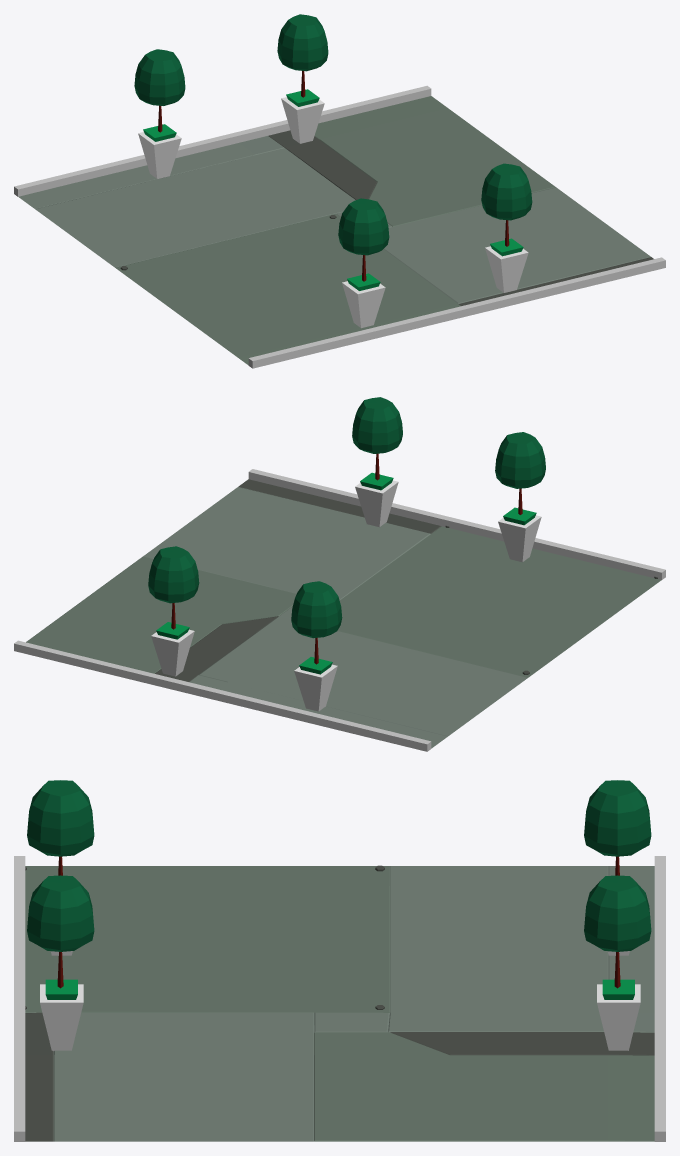
3 renders of one model, top to bottom at view 1: azimuth 30°, elevation 25°; view 2: azimuth 150°, elevation 25°; view 3: azimuth 270°, elevation 25°, orthographic. The views are drawn at different scales.
Visible parts, largest first — view 1: Scifi_Panel_04_Plaza014_group4.020_Scifi_Panel_04_Plaza014_group, Cube.921_Cube.1046, Cube.922_Cube.1047, base_singlePot03.017_base_singlePot03.019, base_singlePot03.016_base_singlePot03.018, base_singlePot03.014_base_singlePot03.016, base_singlePot03.015_base_singlePot03.017; view 2: Scifi_Panel_04_Plaza014_group4.020_Scifi_Panel_04_Plaza014_group, Cube.922_Cube.1047, Cube.921_Cube.1046, base_singlePot03.015_base_singlePot03.017, base_singlePot03.014_base_singlePot03.016, base_singlePot03.017_base_singlePot03.019, base_singlePot03.016_base_singlePot03.018; view 3: Scifi_Panel_04_Plaza014_group4.020_Scifi_Panel_04_Plaza014_group, base_singlePot03.016_base_singlePot03.018, base_singlePot03.015_base_singlePot03.017, base_singlePot03.017_base_singlePot03.019, base_singlePot03.014_base_singlePot03.016, Cube.922_Cube.1047, Cube.921_Cube.1046.
Part boxes in pixels (bbox=[...]): Scifi_Panel_04_Plaza014_group4.020_Scifi_Panel_04_Plaza014_group: bbox=[18, 96, 653, 365]; Cube.921_Cube.1046: bbox=[248, 257, 665, 368]; Cube.922_Cube.1047: bbox=[14, 85, 431, 196]; base_singlePot03.017_base_singlePot03.019: bbox=[338, 198, 389, 328]; base_singlePot03.016_base_singlePot03.018: bbox=[481, 163, 532, 292]; base_singlePot03.014_base_singlePot03.016: bbox=[134, 49, 185, 178]; base_singlePot03.015_base_singlePot03.017: bbox=[277, 14, 328, 143]; Scifi_Panel_04_Plaza014_group4.020_Scifi_Panel_04_Plaza014_group: bbox=[26, 479, 661, 748]; Cube.922_Cube.1047: bbox=[14, 640, 431, 751]; Cube.921_Cube.1046: bbox=[248, 469, 665, 579]; base_singlePot03.015_base_singlePot03.017: bbox=[148, 546, 199, 676]; base_singlePot03.014_base_singlePot03.016: bbox=[291, 581, 342, 711]; base_singlePot03.017_base_singlePot03.019: bbox=[495, 432, 545, 562]; base_singlePot03.016_base_singlePot03.018: bbox=[352, 397, 402, 527]; Scifi_Panel_04_Plaza014_group4.020_Scifi_Panel_04_Plaza014_group: bbox=[25, 865, 654, 1141]; base_singlePot03.016_base_singlePot03.018: bbox=[27, 875, 94, 1051]; base_singlePot03.015_base_singlePot03.017: bbox=[584, 875, 651, 1050]; base_singlePot03.017_base_singlePot03.019: bbox=[27, 780, 94, 955]; base_singlePot03.014_base_singlePot03.016: bbox=[584, 780, 651, 955]; Cube.922_Cube.1047: bbox=[654, 856, 665, 1141]; Cube.921_Cube.1046: bbox=[14, 856, 25, 1141].
Bounding box in the file's own units: 10 × 2.78 × 10.
